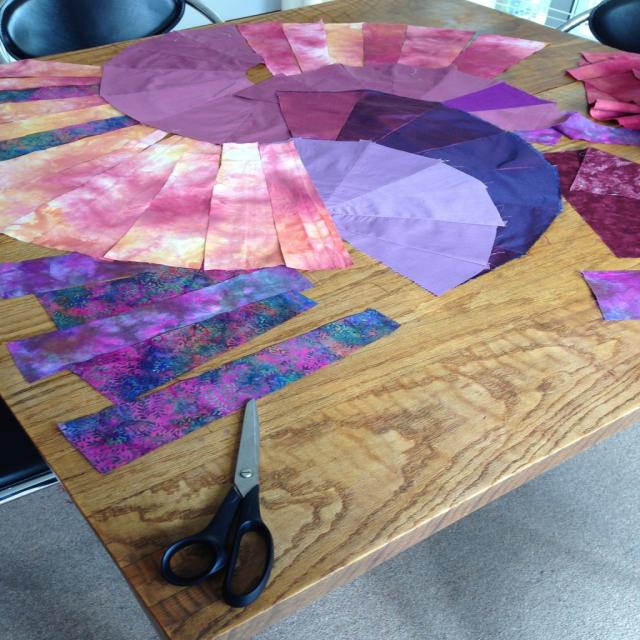scissors: (160, 397, 274, 607)
